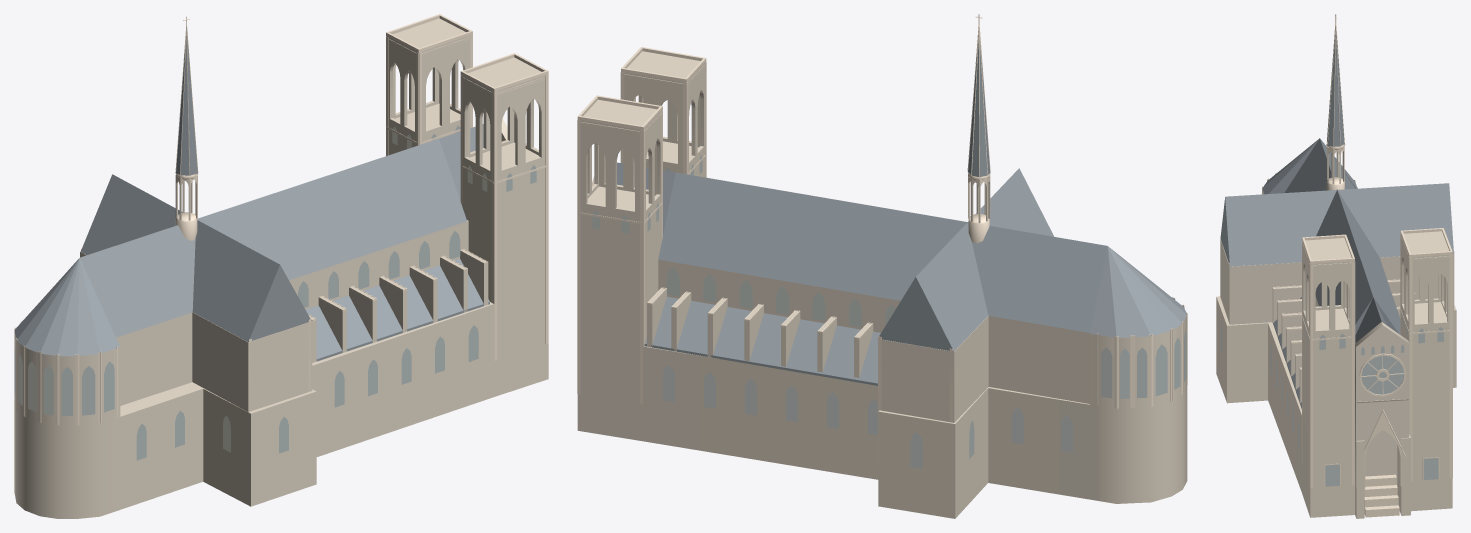
The picture shows the model from 3 angles, left to right: view 1: azimuth 30°, elevation 25°; view 2: azimuth 150°, elevation 25°; view 3: azimuth 270°, elevation 25°; orthographic projection. The views are drawn at different scales.
Visible parts, largest first — view 1: stone, roof, trim, window; view 2: stone, roof, trim, window; view 3: stone, roof, trim, window.
Boxes of the visible parts, x1=… form: stone: x1=14, y1=18, x2=548, y2=518; roof: x1=14, y1=36, x2=489, y2=361; trim: x1=14, y1=14, x2=548, y2=425; window: x1=14, y1=126, x2=536, y2=460; stone: x1=577, y1=51, x2=1187, y2=518; roof: x1=617, y1=40, x2=1186, y2=385; trim: x1=577, y1=14, x2=1187, y2=468; window: x1=592, y1=155, x2=1186, y2=469; stone: x1=1216, y1=146, x2=1456, y2=518; roof: x1=1220, y1=35, x2=1453, y2=408; trim: x1=1220, y1=14, x2=1454, y2=517; window: x1=1220, y1=303, x2=1443, y2=486.
Size of the model in its own units: 95.52 by 75 by 45.
